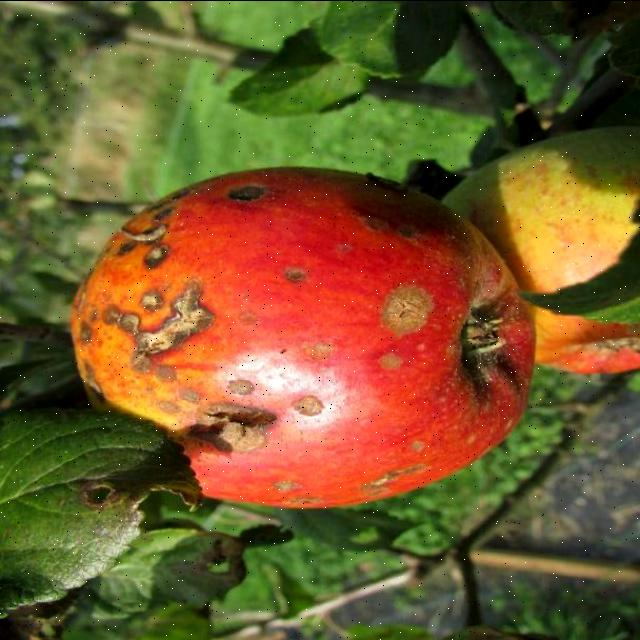SCAB: (68, 143, 546, 526)
